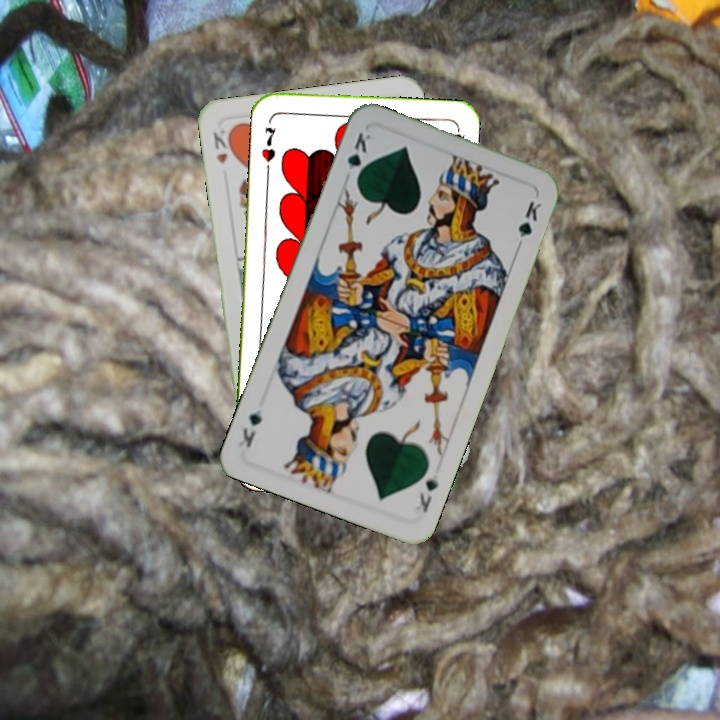GK: (343, 128, 375, 186), (415, 470, 441, 516)
H7: (257, 122, 279, 165)
HK: (209, 125, 236, 167)
